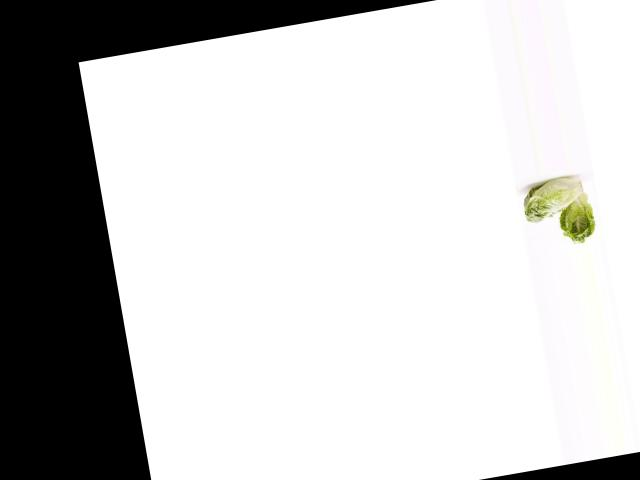lettuce: (515, 171, 592, 228)
